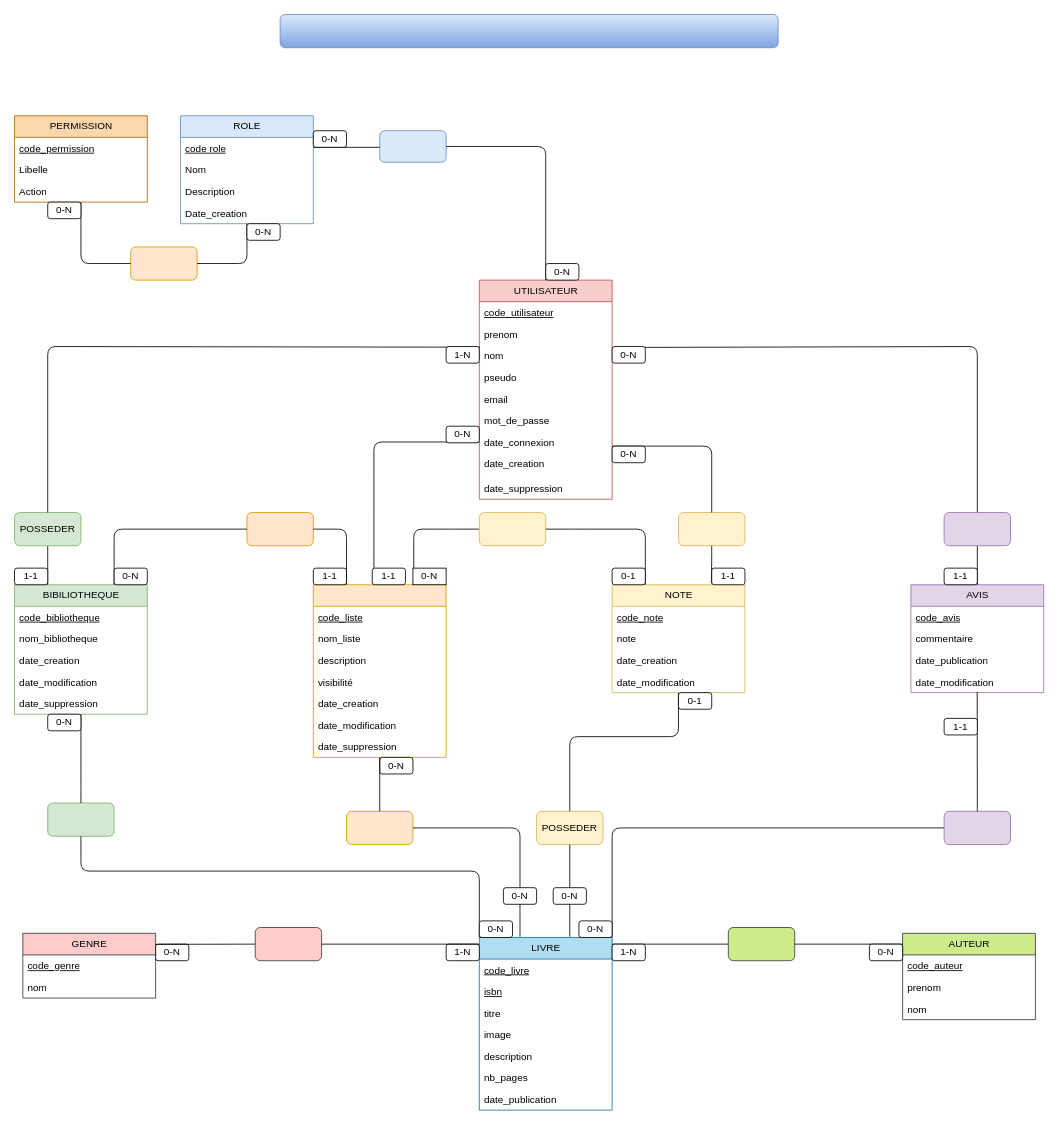
The diagram is 1058 pixels wide and 1127 high, and some of its shapes have lost their labels. The shapes that lost their labels are listed below. From the top down, each one's box as (x1, y1, x2, y2) in pixels, then its label:
(279, 14, 778, 48): MCD - RBAC - BLABLABOOK
(379, 130, 446, 162): AVOIR
(130, 246, 197, 280): DETENIR
(246, 512, 313, 546): INCLURE
(478, 512, 546, 546): RECEVOIR
(678, 512, 745, 546): ATTRIBUER
(943, 512, 1011, 546): REDIGER
(312, 584, 446, 757): LISTE_LECTURE
(47, 802, 114, 836): DISPOSER
(346, 810, 413, 845): CONTENIR
(943, 810, 1011, 845): COMPORTER
(254, 927, 322, 961): APPARTIENT
(727, 927, 795, 961): ECRIRE
